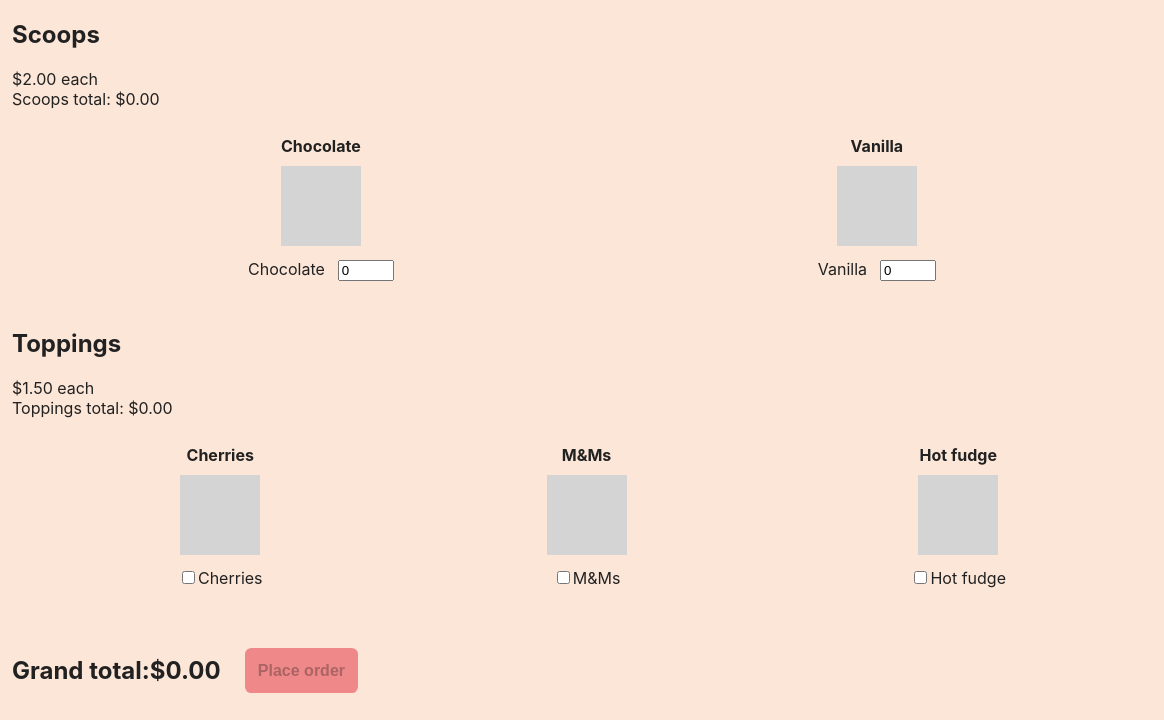
Test: Grand total › Grand total updates properly if item is removed
Replace the text in the number field labelled "Vanilla" with "1" at (908, 270), box [880, 260, 936, 281]
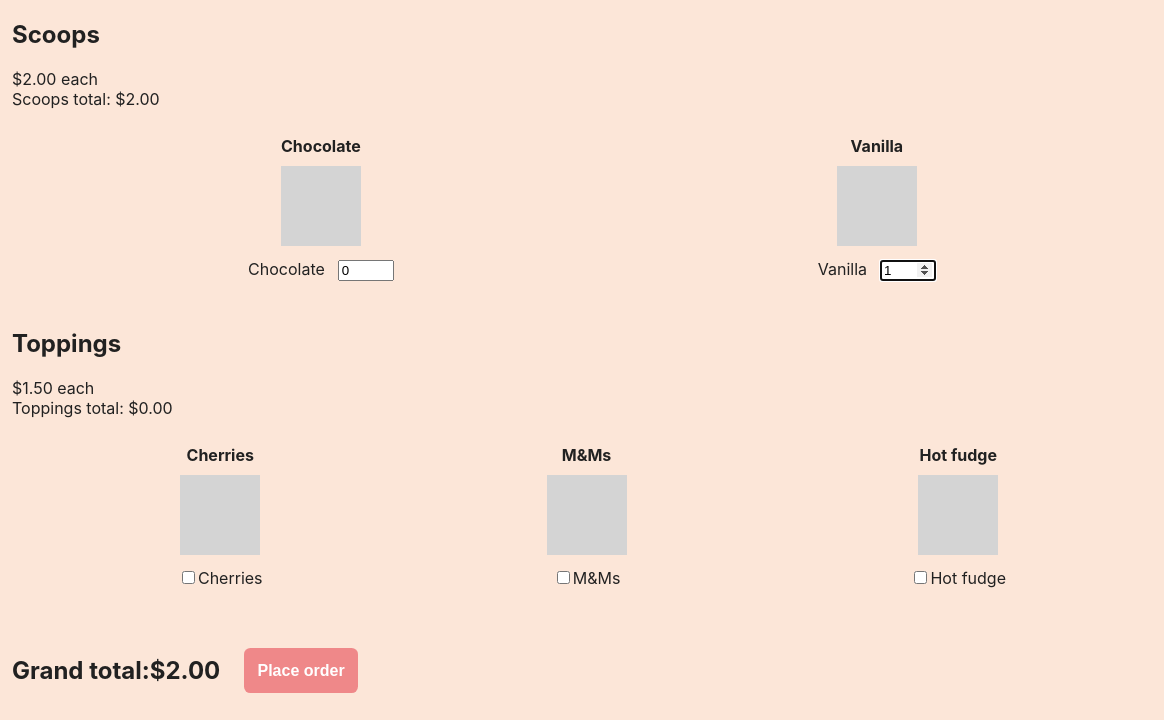
Click the checkbox labelled "Cherries".
click(188, 578)  # box [182, 571, 195, 584]
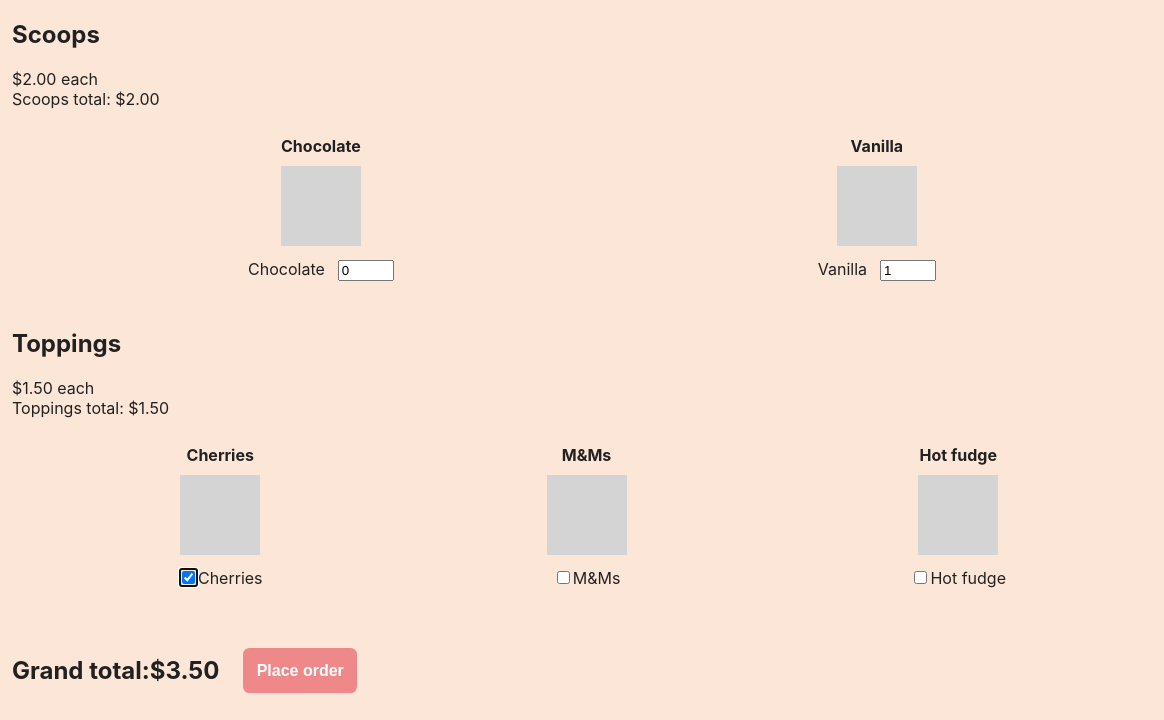
expect the heading "Grand total:$3.50" is shown: met, box [12, 656, 220, 685]
Click the checkbox labelled "Cherries".
click(188, 578)  # box [182, 571, 195, 584]
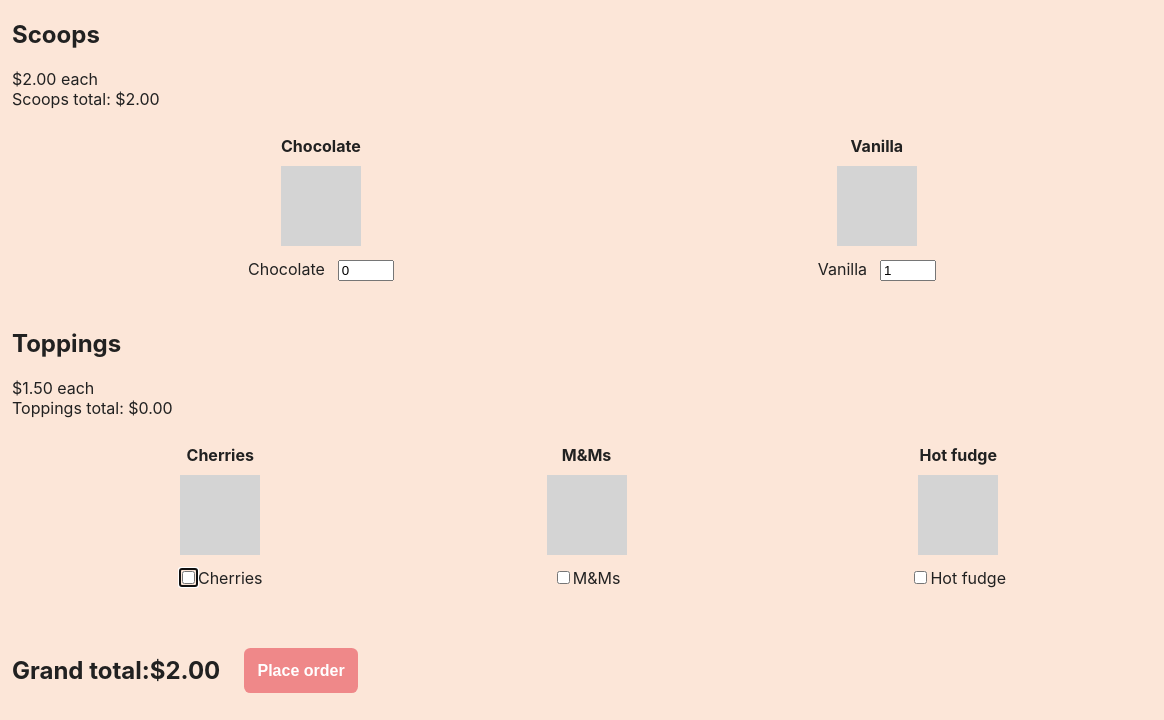
expect the heading "Grand total:$2.00" is shown: met, box [12, 656, 220, 685]
